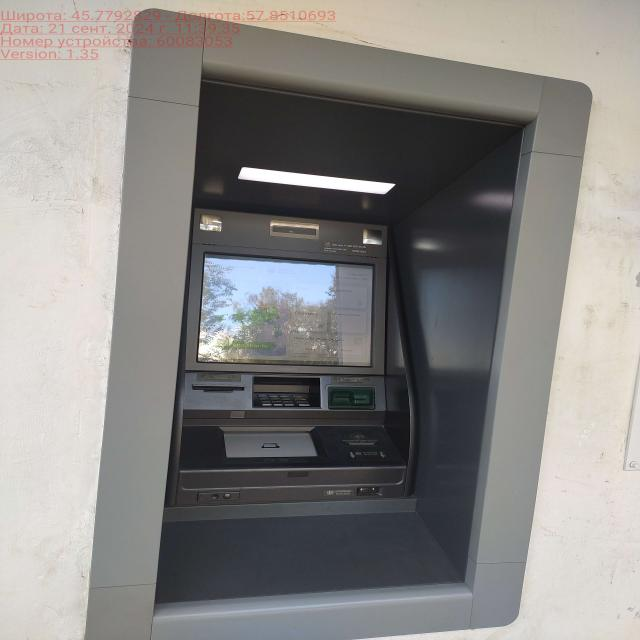bank: (162, 188, 443, 576)
